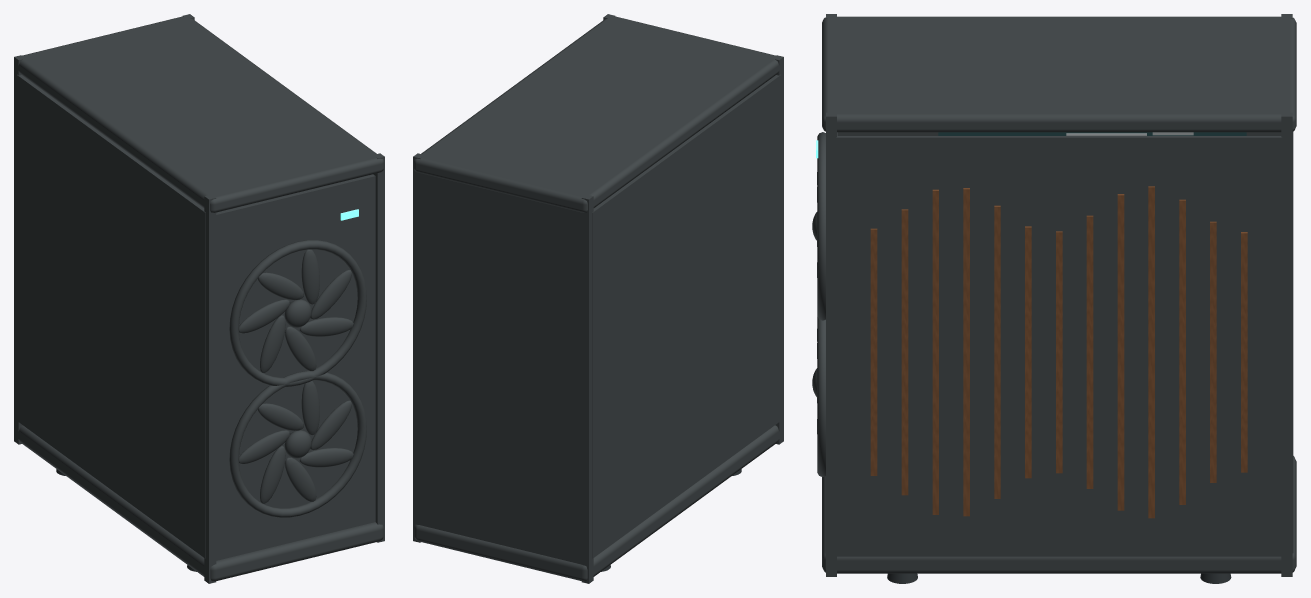
The model's file is pc_case_walnut_atx-447dc7ba3bd1.glb.
The picture shows the model from 3 angles, left to right: view 1: azimuth 30°, elevation 25°; view 2: azimuth 150°, elevation 25°; view 3: azimuth 270°, elevation 25°; orthographic projection. The views are drawn at different scales.
Parts seen in each view (by area): view 1: surface_graphite; view 2: surface_graphite; view 3: surface_graphite, surface_walnut, surface_deep.
Boxes of the visible parts, <box> form: surface_graphite: <box>14,14,384,583</box>; surface_graphite: <box>413,14,783,583</box>; surface_graphite: <box>812,14,1296,576</box>; surface_walnut: <box>870,186,1247,518</box>; surface_deep: <box>938,132,1246,135</box>.
Bounding box in the file's own units: 0.2241 × 0.474 × 0.4385.
Materials: 7 (1 with a texture image).
